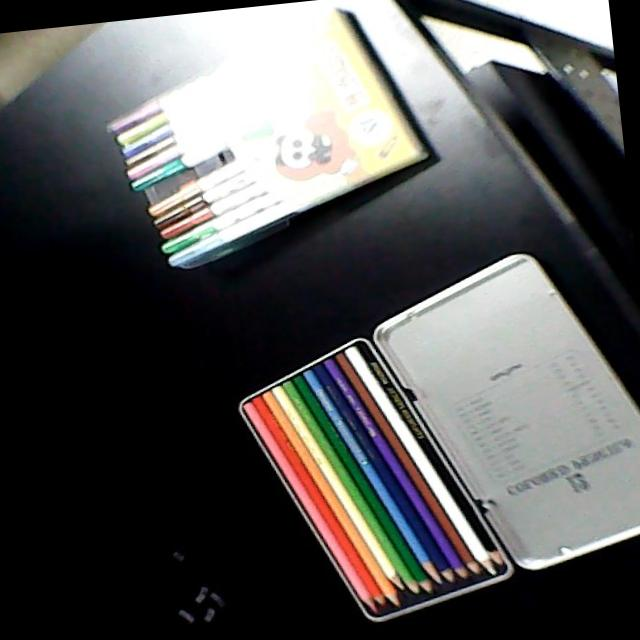color: (229, 324, 524, 626)
signpen: (97, 2, 446, 280)
